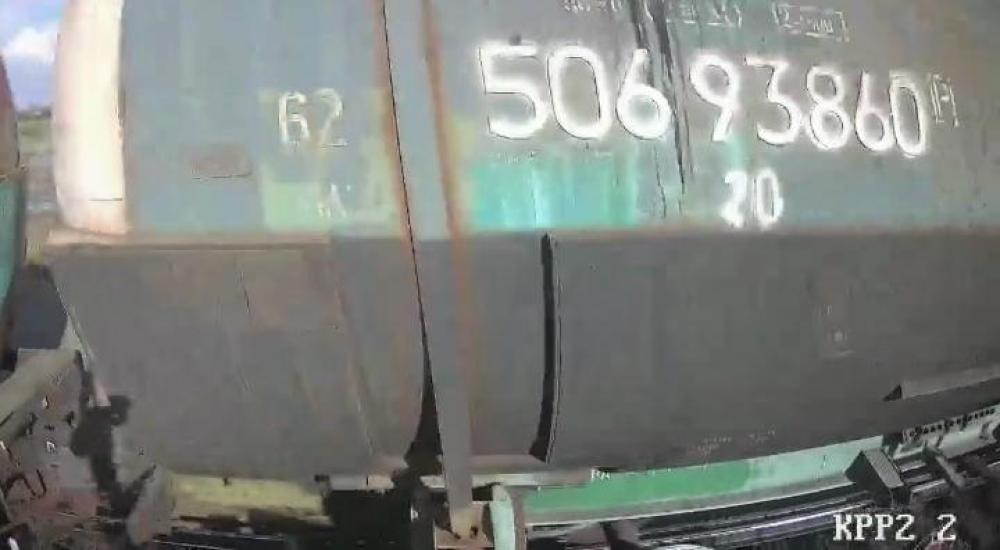Wagon-number: (471, 40, 932, 160)
